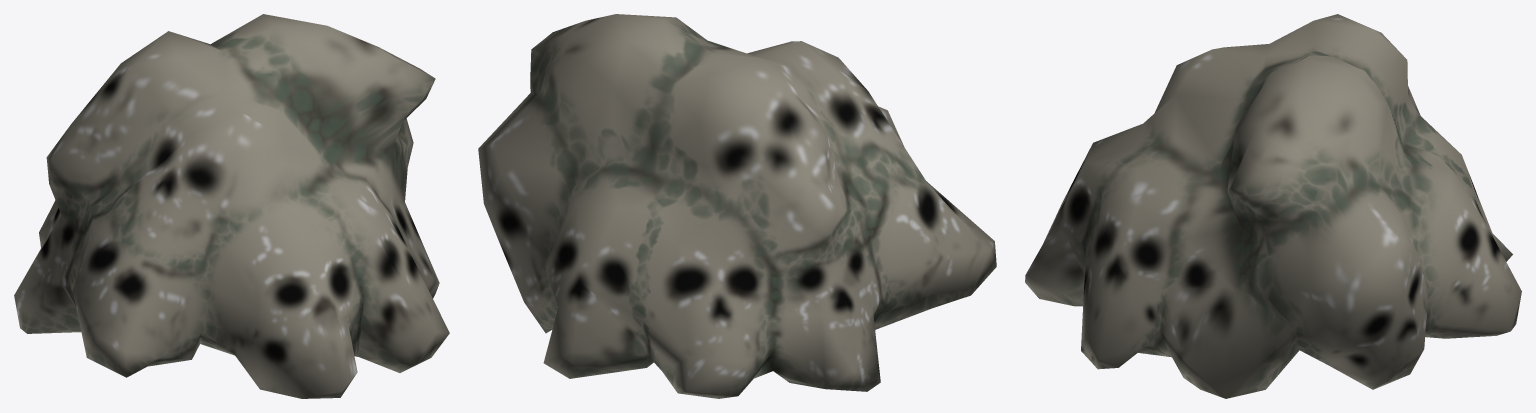
The model's file is Skeleton_Heads.fbx.
3 views of the same model, side by side, from view 1: azimuth 30°, elevation 25°; view 2: azimuth 150°, elevation 25°; view 3: azimuth 270°, elevation 25° (orthographic). The views are drawn at different scales.
Visible parts, largest first — view 1: Skeleton_Heads; view 2: Skeleton_Heads; view 3: Skeleton_Heads.
Boxes of the visible parts, x1,y1,x2,y2 form: Skeleton_Heads: [14, 14, 449, 398]; Skeleton_Heads: [478, 14, 996, 398]; Skeleton_Heads: [1025, 14, 1521, 398].
Bounding box in the file's own units: 0.5065 × 0.3511 × 0.538.
